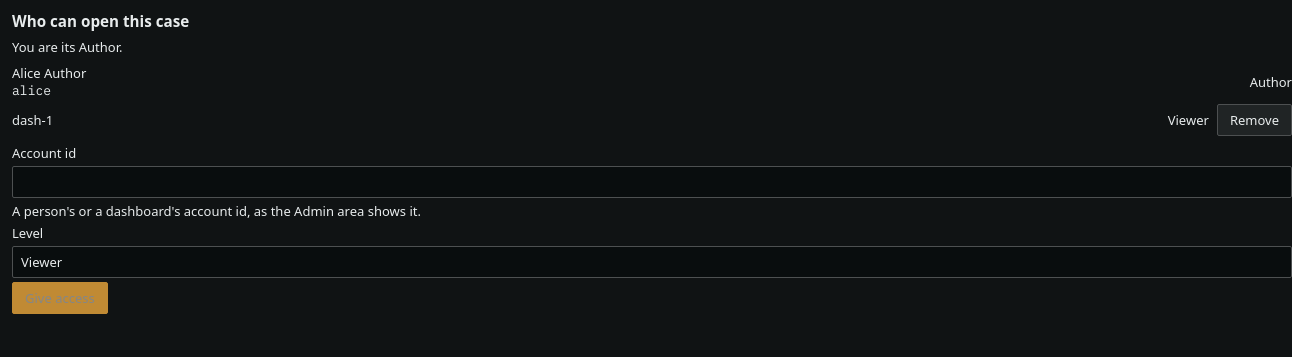
Scenario: who can open a case › says a refusal in words
In the field labelled "Account id": point(652, 182) x1=12 y1=166 x2=1291 y2=198, type "bob"
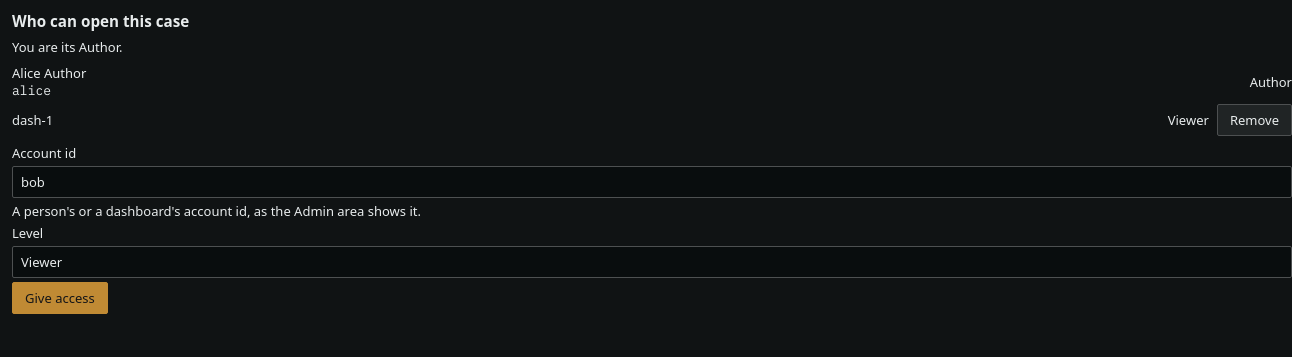
Click the button "Give access": point(60, 298) x1=12 y1=282 x2=108 y2=314
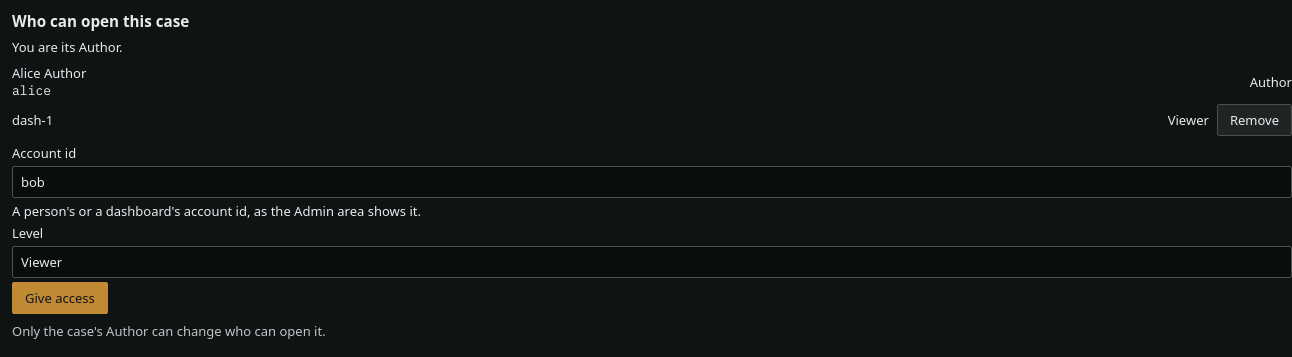
Expected: the message reads "Only the case's Author can change who can open it.", x1=12 y1=322 x2=326 y2=340
